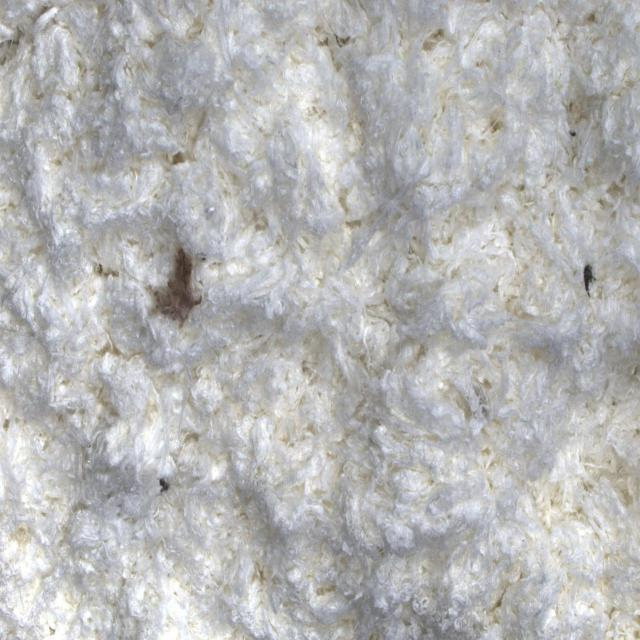dust: (134, 229, 214, 347), (574, 250, 604, 307), (153, 459, 178, 506)
